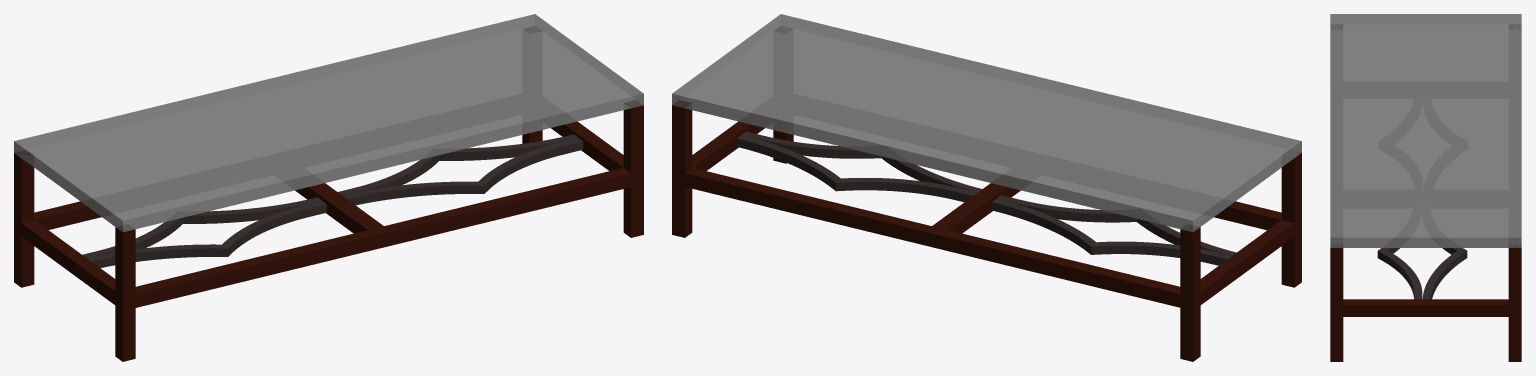
3 views of the same model, side by side, from view 1: azimuth 30°, elevation 25°; view 2: azimuth 150°, elevation 25°; view 3: azimuth 270°, elevation 25° (orthographic). The views are drawn at different scales.
Visible parts, largest first — view 1: group_0, group_9, group_6, group_1, group_2, group_8, group_4, group_5, group_7; view 2: group_0, group_9, group_5, group_4, group_3, group_7, group_1, group_6, group_8; view 3: group_0, group_9, group_3, group_2, group_6, group_5.
Part boxes in pixels (<box>): group_0: <box>14,14,643,232</box>; group_9: <box>21,121,630,307</box>; group_6: <box>342,138,583,205</box>; group_1: <box>115,227,135,361</box>; group_2: <box>623,100,643,237</box>; group_8: <box>87,201,326,266</box>; group_4: <box>14,152,34,287</box>; group_5: <box>338,134,578,195</box>; group_7: <box>82,197,321,257</box>; group_0: <box>672,14,1301,232</box>; group_9: <box>685,121,1294,307</box>; group_5: <box>737,135,977,202</box>; group_4: <box>1180,226,1200,361</box>; group_3: <box>672,100,692,237</box>; group_7: <box>992,198,1231,265</box>; group_1: <box>1281,152,1301,287</box>; group_6: <box>742,131,981,192</box>; group_8: <box>997,195,1236,255</box>; group_0: <box>1330,14,1521,247</box>; group_9: <box>1343,299,1508,316</box>; group_3: <box>1508,244,1521,361</box>; group_2: <box>1330,245,1343,361</box>; group_6: <box>1377,248,1422,299</box>; group_5: <box>1422,248,1467,299</box>.
Bounding box in the file's own units: 70.5 × 25.5 × 18.25.
